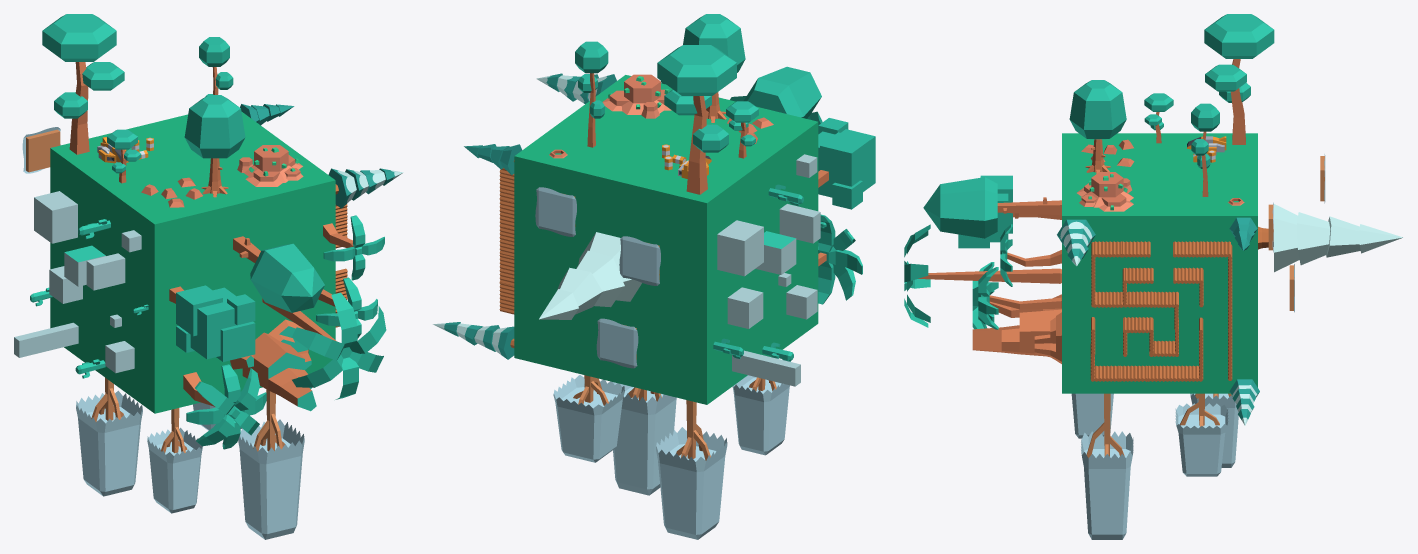
Rendered from game-world.dae.
3 views of the same model, side by side, from view 1: azimuth 30°, elevation 25°; view 2: azimuth 150°, elevation 25°; view 3: azimuth 270°, elevation 25° (orthographic). The views are drawn at different scales.
Visible parts, largest first — view 1: pasted__cactus_short_ncl1_1; view 2: pasted__cactus_short_ncl1_1; view 3: pasted__cactus_short_ncl1_1.
Part boxes in pixels (x1,y1,x2,y2): pasted__cactus_short_ncl1_1: [14, 14, 403, 539]; pasted__cactus_short_ncl1_1: [433, 14, 875, 539]; pasted__cactus_short_ncl1_1: [904, 14, 1403, 539].
Bounding box in the file's own units: 36.2 × 51.78 × 51.5.
